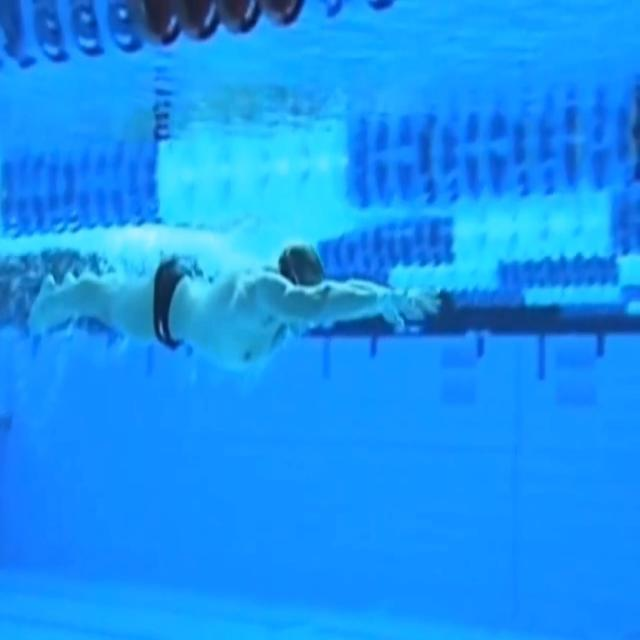Swimming: (28, 241, 440, 369)
